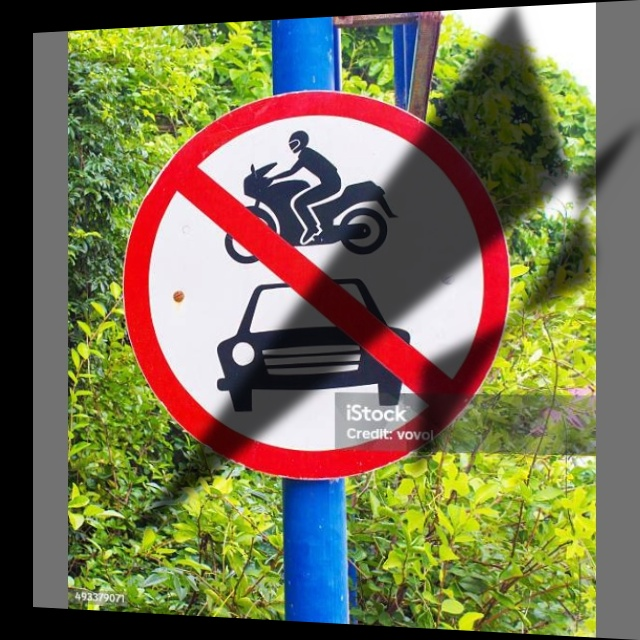All_Motor_Vehicles_Prohibited: (128, 90, 508, 482)
